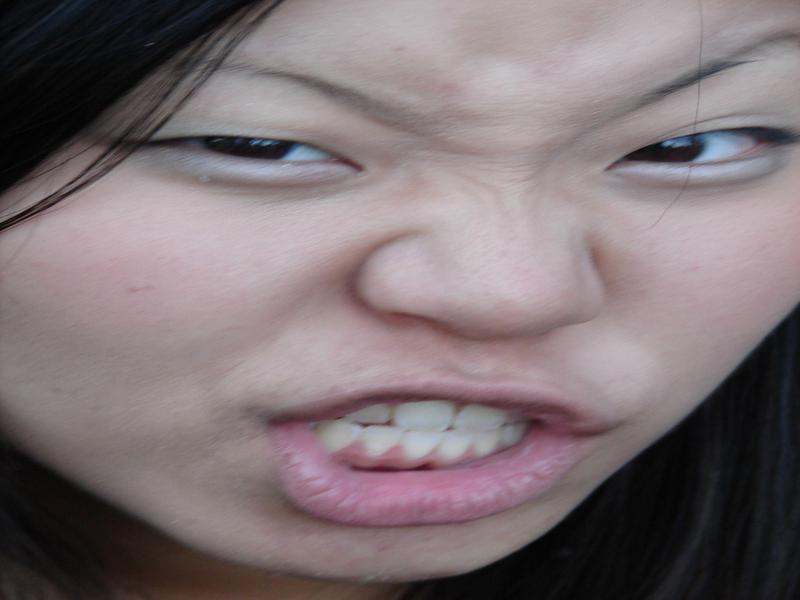person: (1, 1, 800, 591)
